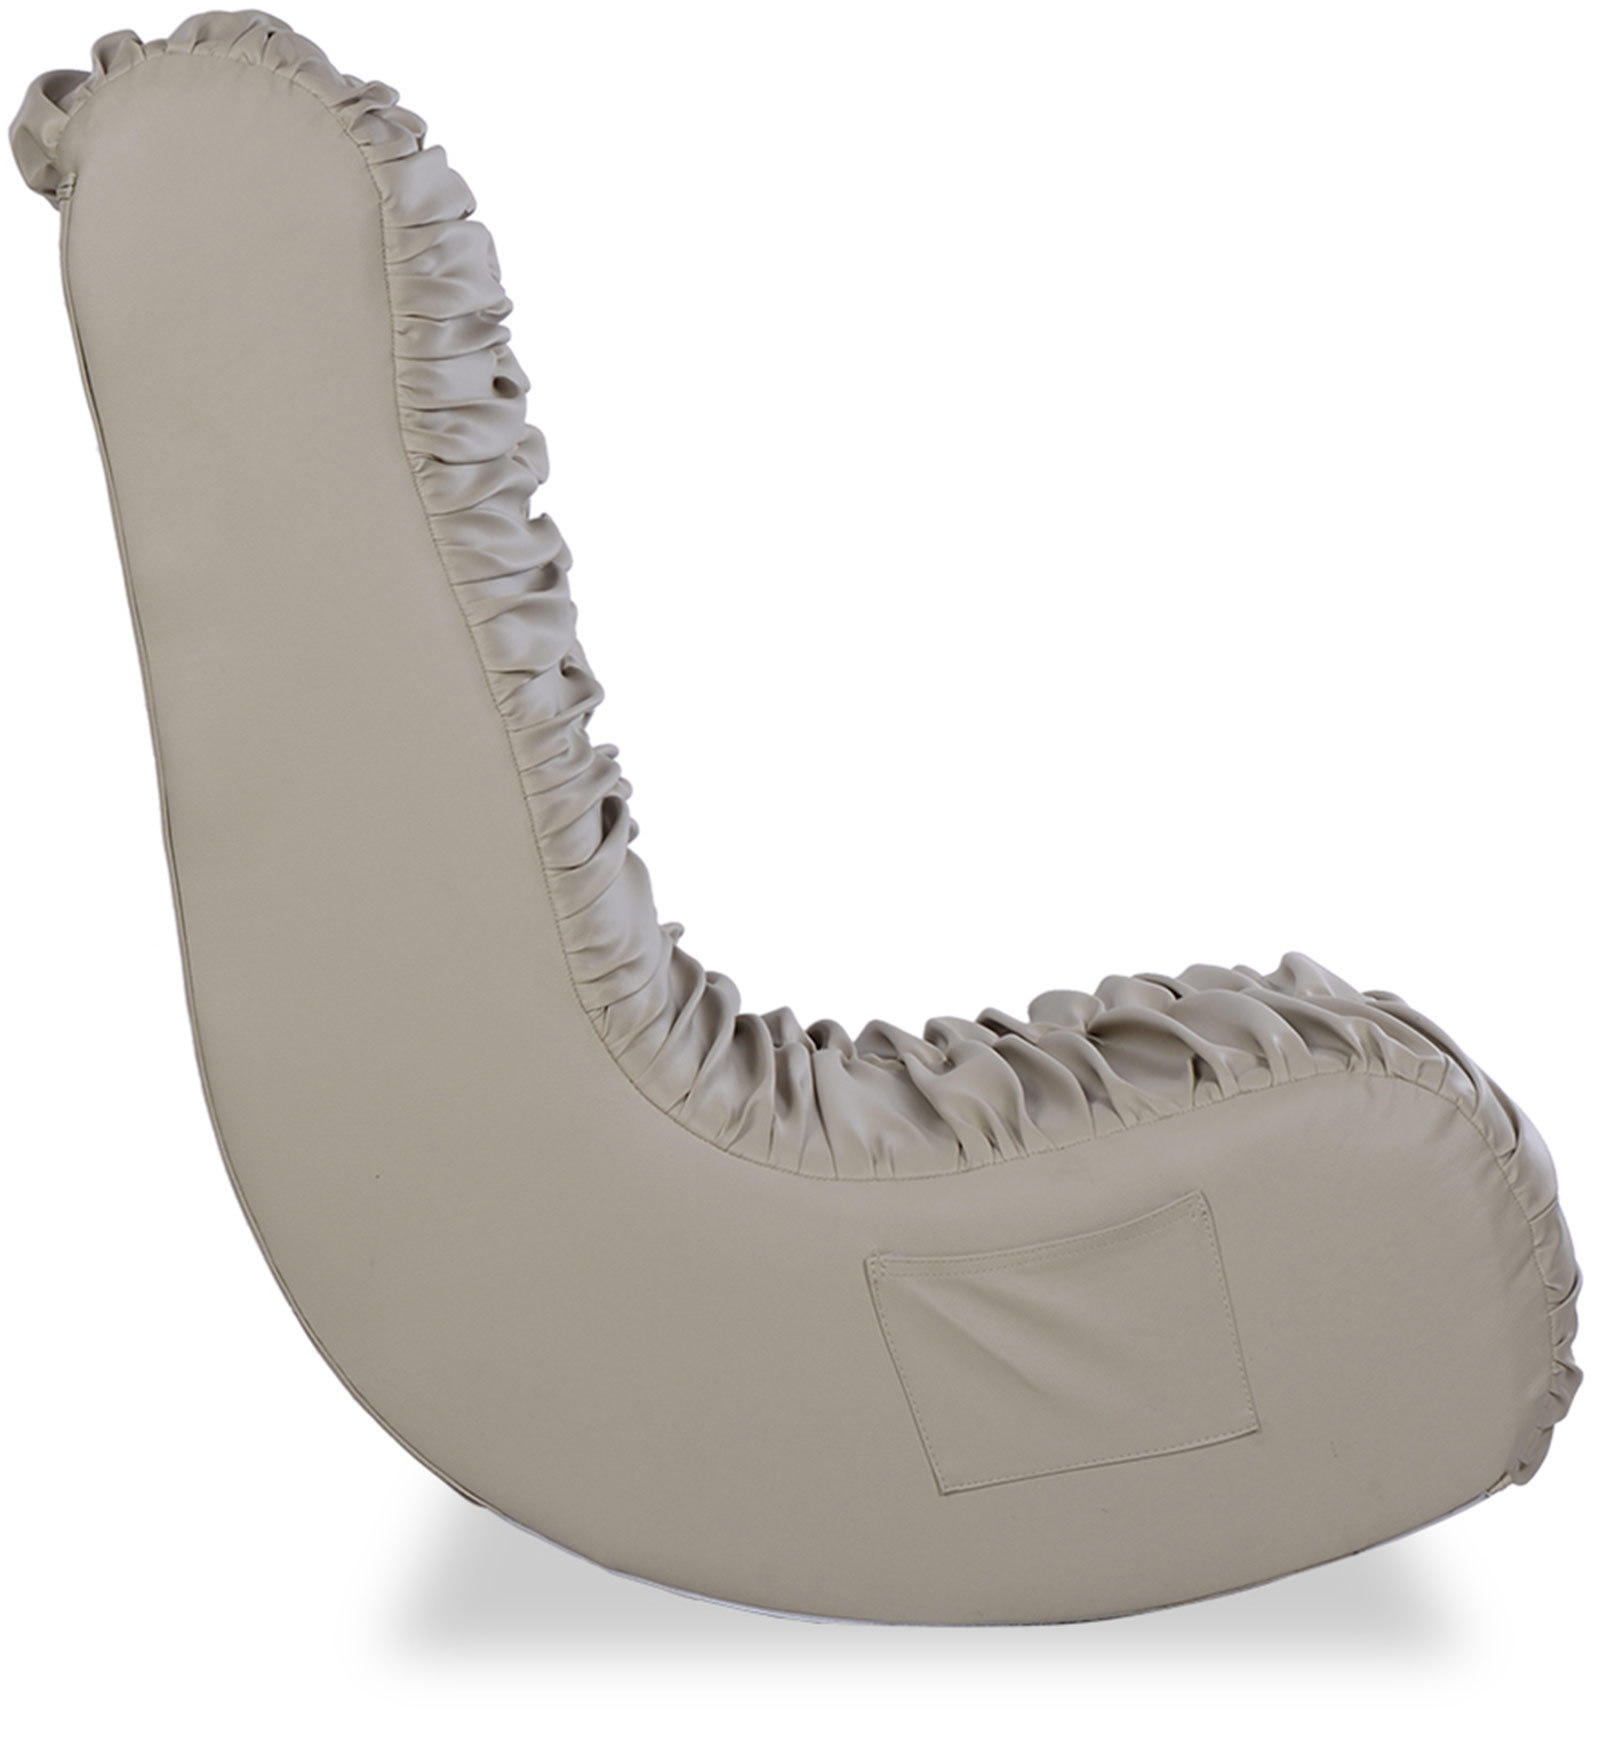Low Seat Rocking Chair in Beige Leatherette by Durian: (18, 21, 1575, 1627)
